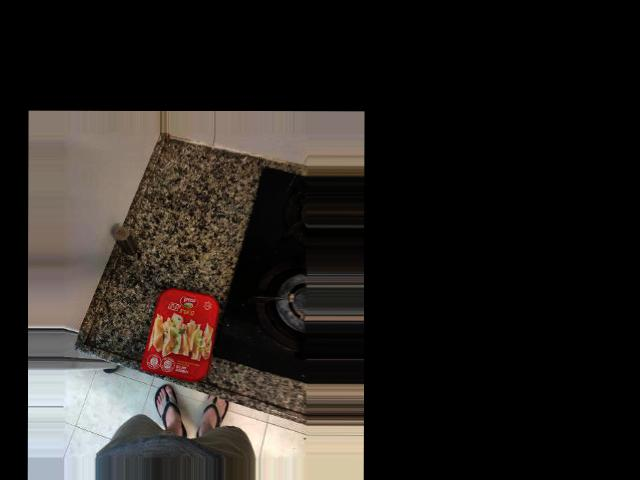cheese: (154, 188, 234, 303)
